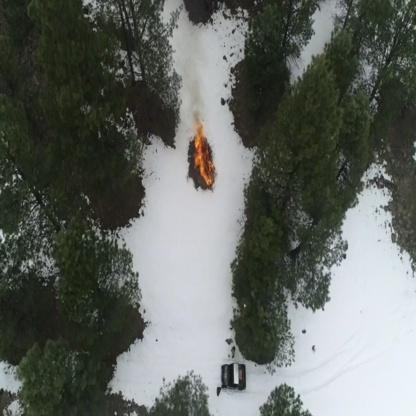Fire: (191, 114, 216, 188)
